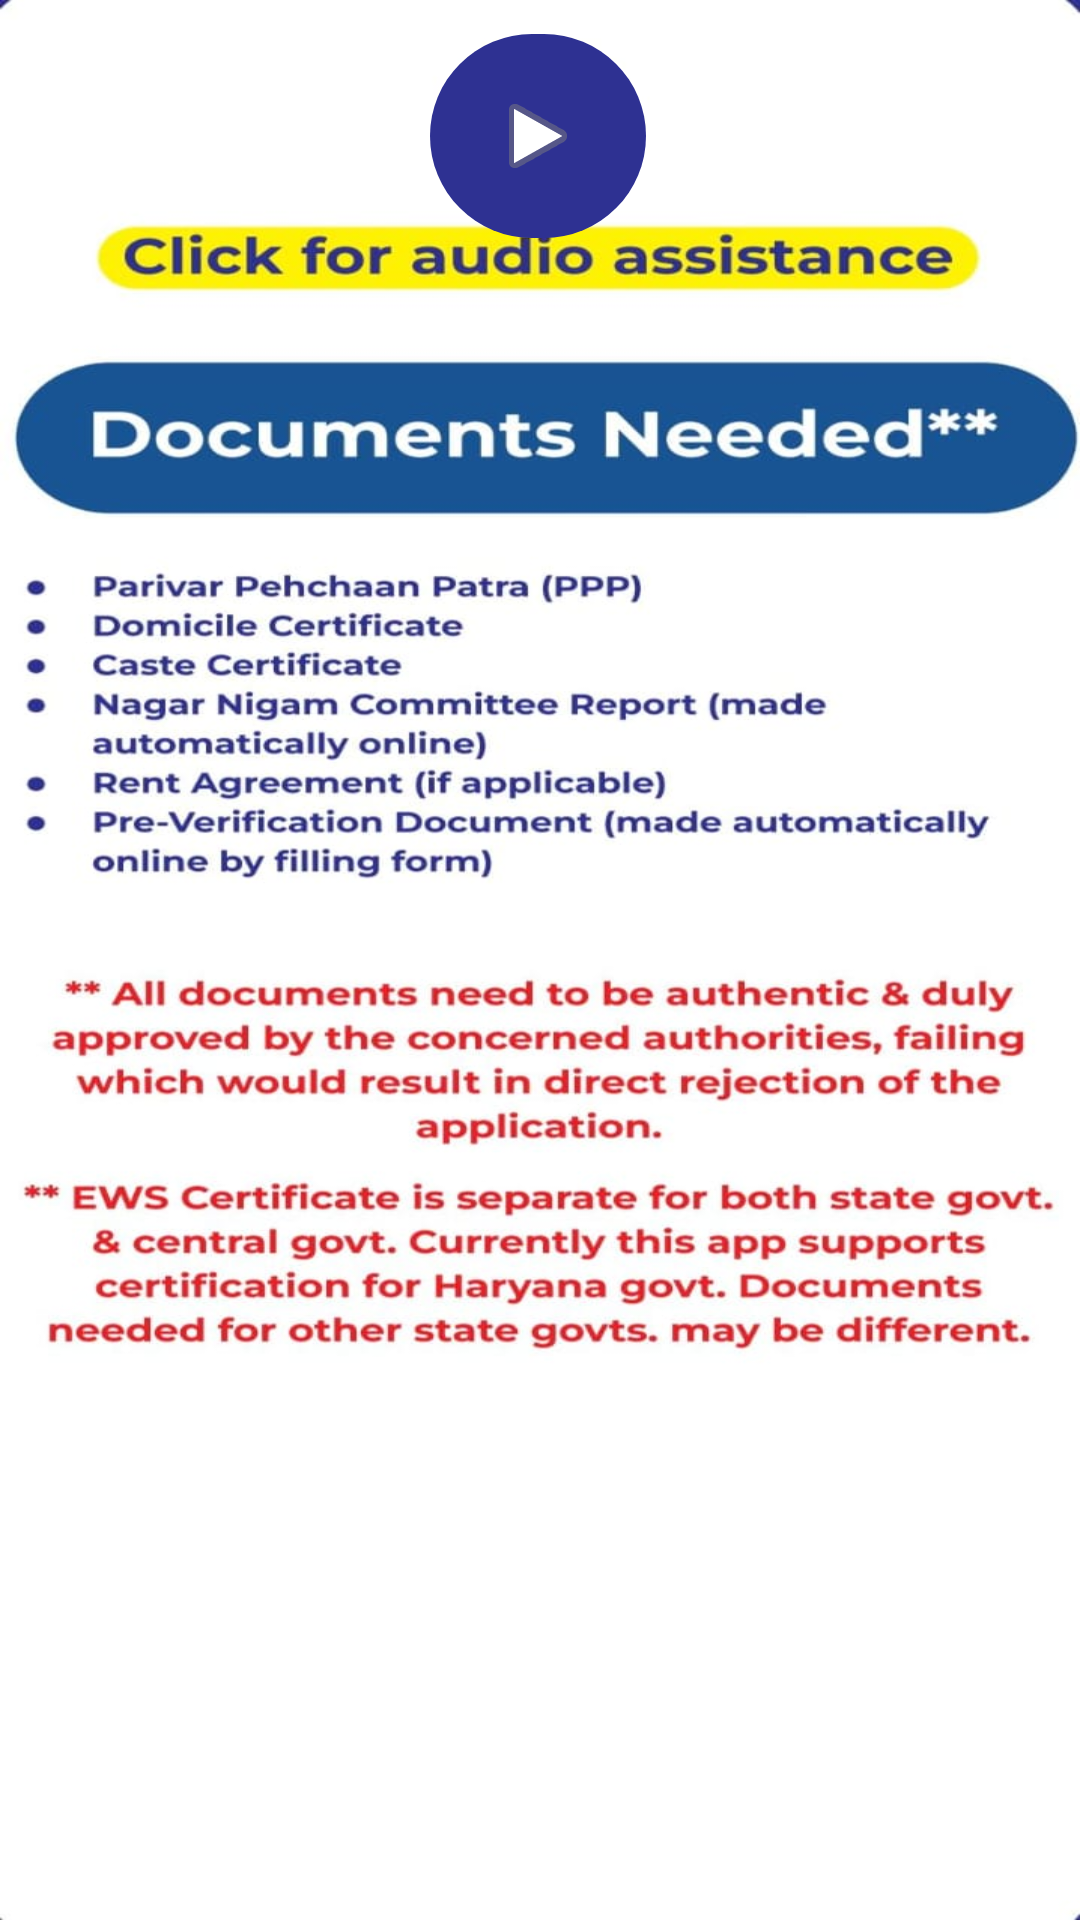

Icon click points for this 1080px×1920px phone screenshot, format point (x, y):
play: point (538, 136)
